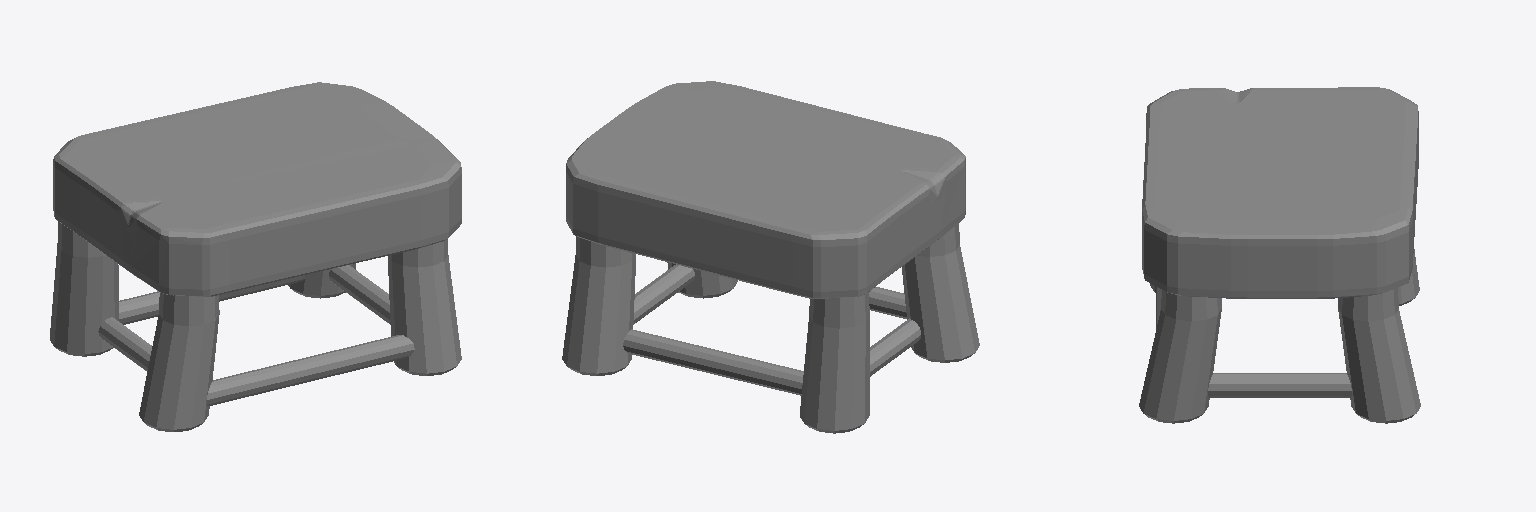
The model's file is stool_2.obj.
3 renders of one model, left to right at view 1: azimuth 30°, elevation 25°; view 2: azimuth 150°, elevation 25°; view 3: azimuth 270°, elevation 25°, orthographic.
Visible parts, largest first — view 1: Cylinder26; view 2: Cylinder26; view 3: Cylinder26.
Part boxes in pixels (x1,y1,x2,y2): Cylinder26: (50,82,461,431); Cylinder26: (562,81,979,433); Cylinder26: (1139,87,1420,423).
Size of the model in its own units: 9.81 by 5.73 by 7.51.